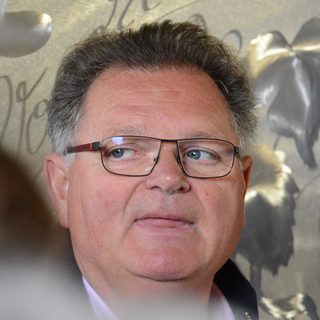eye: (181, 145, 222, 166), (101, 145, 142, 161)
